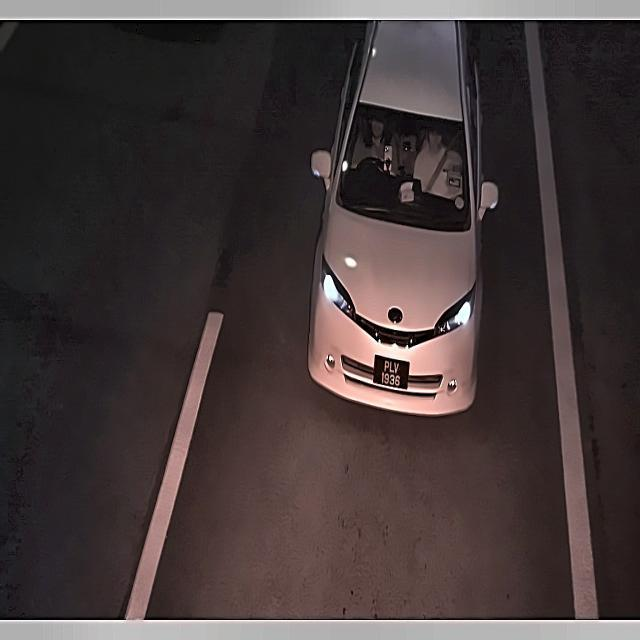car: (373, 354, 408, 397)
